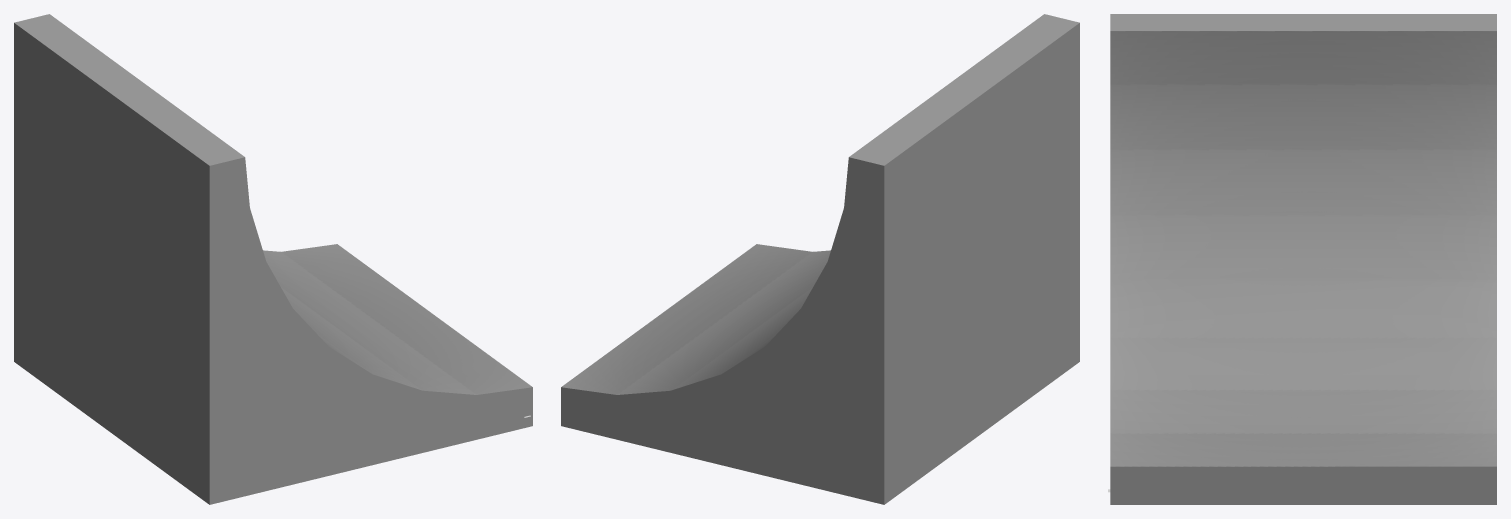
File: ramp.fbx
The picture shows the model from 3 angles, left to right: view 1: azimuth 30°, elevation 25°; view 2: azimuth 150°, elevation 25°; view 3: azimuth 270°, elevation 25°; orthographic projection.
Visible parts, largest first — view 1: Cube; view 2: Cube; view 3: Cube.
Part boxes in pixels (x1=…): Cube: x1=14, y1=14, x2=532, y2=504; Cube: x1=561, y1=14, x2=1079, y2=504; Cube: x1=1110, y1=14, x2=1496, y2=504.
Bounding box in the file's own units: 102 × 102 × 107.
1 material, 1 textured.
